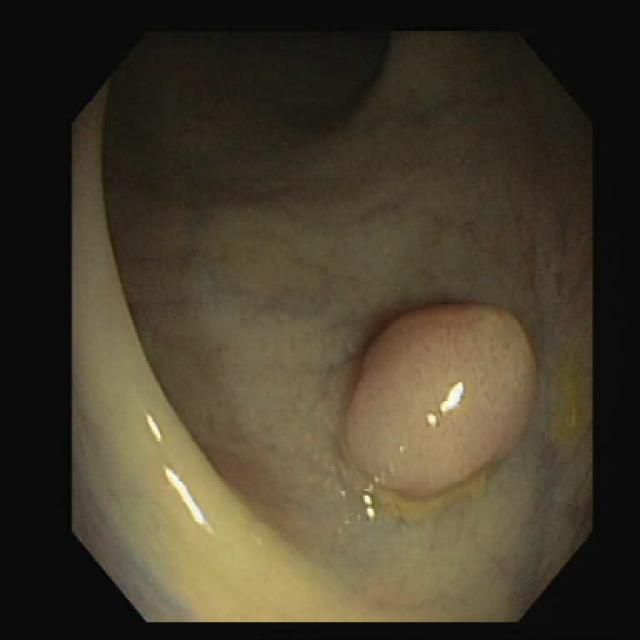tumor: (343, 307, 535, 491)
